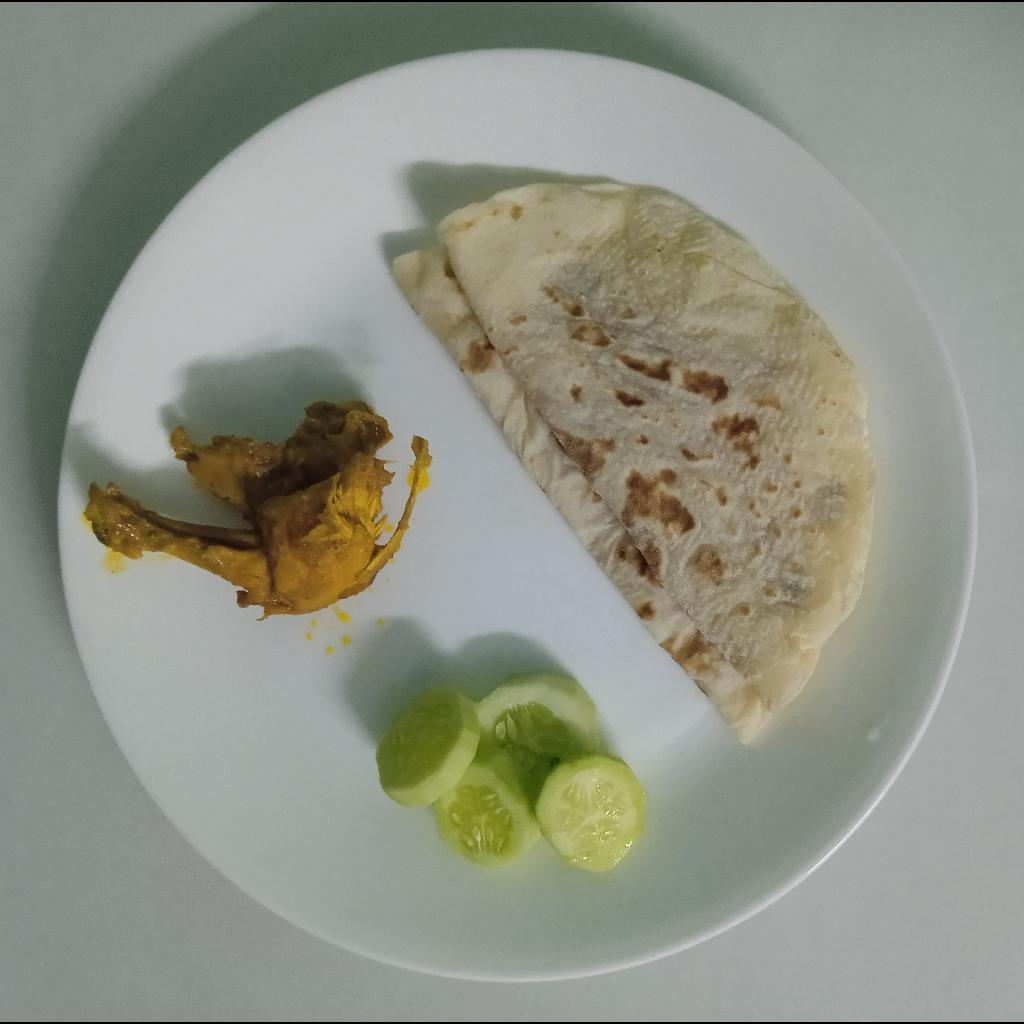chicken: (79, 399, 438, 624)
cucumber: (370, 673, 654, 872)
ruti: (392, 181, 876, 745)
